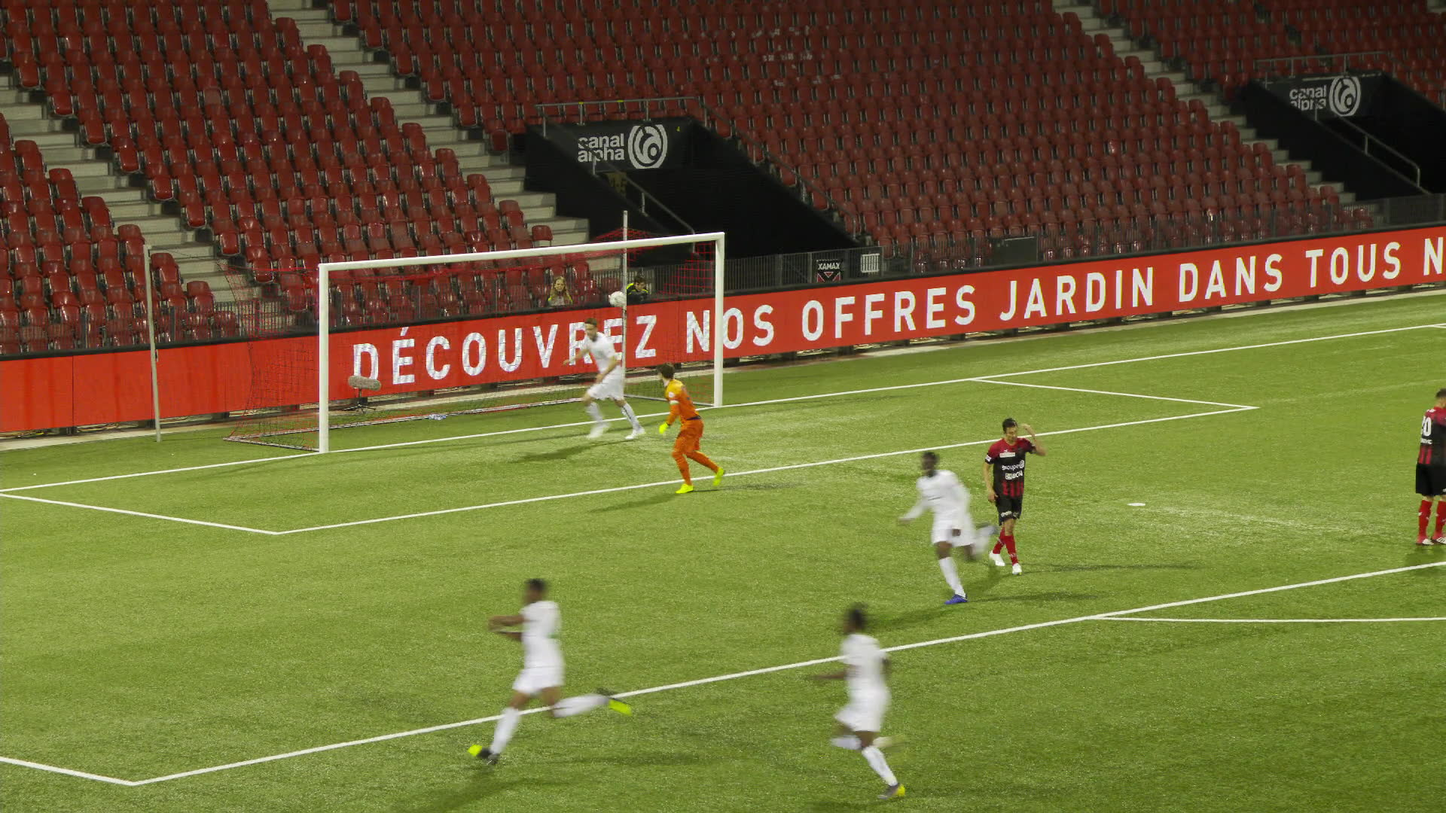ball: (607, 297, 621, 312)
player: (828, 602, 959, 799), (502, 580, 624, 770), (909, 448, 1004, 600), (979, 416, 1042, 574), (570, 315, 649, 440), (653, 366, 725, 494), (1411, 387, 1445, 545)
